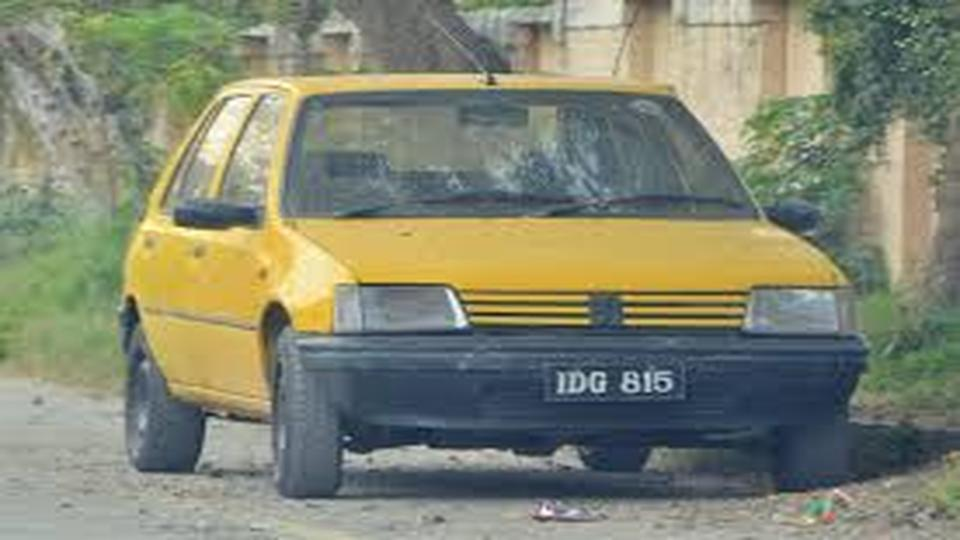NumberPlate: (550, 365, 693, 404)
